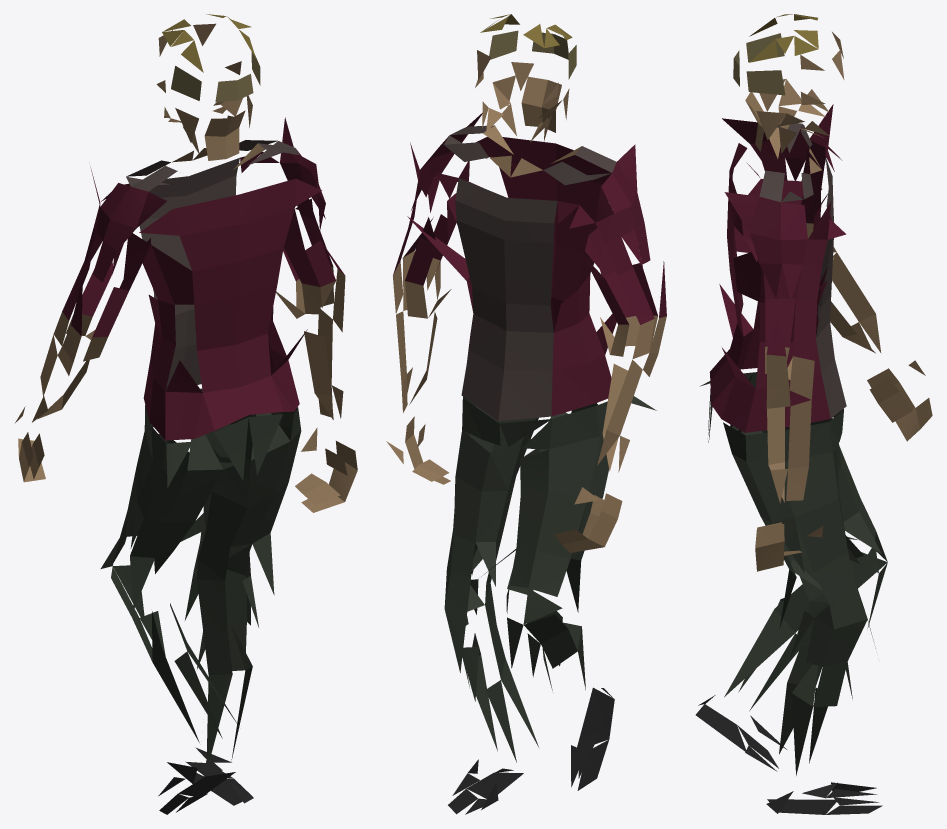
File: personfar_2_w0.fbx
3 renders of one model, left to right at view 1: azimuth 30°, elevation 25°; view 2: azimuth 150°, elevation 25°; view 3: azimuth 270°, elevation 25°, orthographic.
Visible parts, largest first — view 1: BaseHuman; view 2: BaseHuman; view 3: BaseHuman.
Part boxes in pixels (x1=…): BaseHuman: x1=15, y1=14, x2=357, y2=814; BaseHuman: x1=386, y1=14, x2=666, y2=814; BaseHuman: x1=695, y1=14, x2=932, y2=814.
Size of the model in its own units: 0.3509 by 0.9756 by 0.2714.
